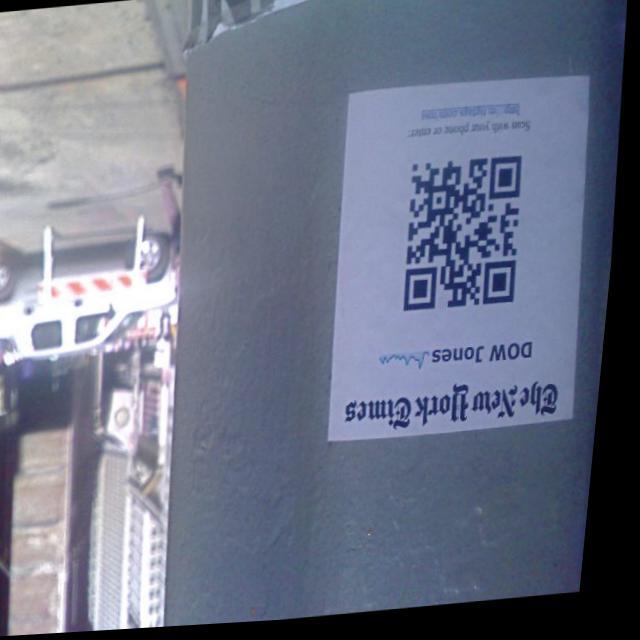qrcode: (405, 161, 531, 317)
